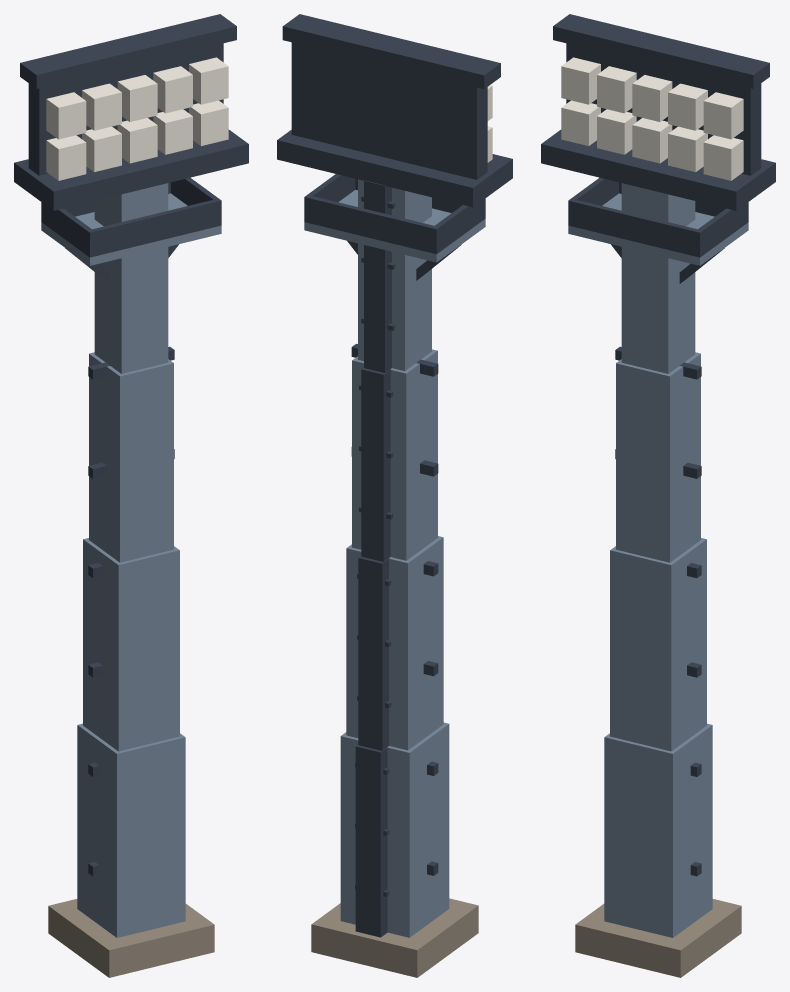
Rendered from floodlightTower.glb.
3 views of the same model, side by side, from view 1: azimuth 30°, elevation 25°; view 2: azimuth 150°, elevation 25°; view 3: azimuth 330°, elevation 25° (orthographic).
Visible parts, largest first — view 1: floodlightTower_steel, floodlightTower_steelDark, floodlightTower_white, floodlightTower_concreteDark; view 2: floodlightTower_steelDark, floodlightTower_steel, floodlightTower_concreteDark; view 3: floodlightTower_steel, floodlightTower_steelDark, floodlightTower_white, floodlightTower_concreteDark.
Boxes of the visible parts, box(x1,y1,x2,y2) form: floodlightTower_steel: box(41, 183, 221, 937); floodlightTower_steelDark: box(14, 14, 248, 876); floodlightTower_white: box(46, 57, 228, 180); floodlightTower_concreteDark: box(48, 899, 214, 977); floodlightTower_steelDark: box(277, 14, 512, 937); floodlightTower_steel: box(304, 179, 485, 937); floodlightTower_concreteDark: box(311, 898, 478, 977); floodlightTower_steel: box(568, 183, 748, 937); floodlightTower_steelDark: box(541, 14, 775, 876); floodlightTower_white: box(561, 57, 743, 180); floodlightTower_concreteDark: box(575, 899, 741, 977).
Bounding box in the file's own units: 7.6 × 32.46 × 4.
